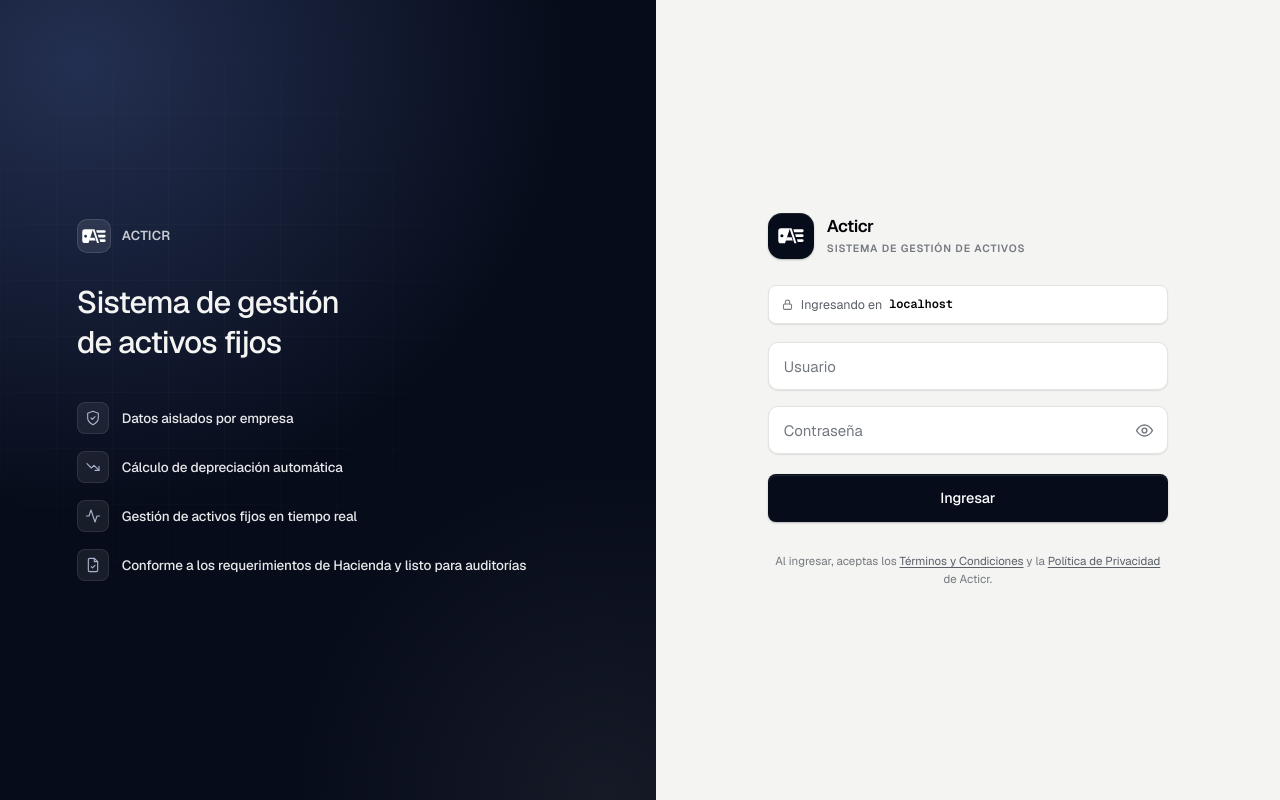
Test: LoginView › shows the server error message when login fails
This screenshot has width=1280, height=800.
Step 1. Type "mrivera" into the field labelled "Usuario" → [968, 366], box [768,342,1168,390]
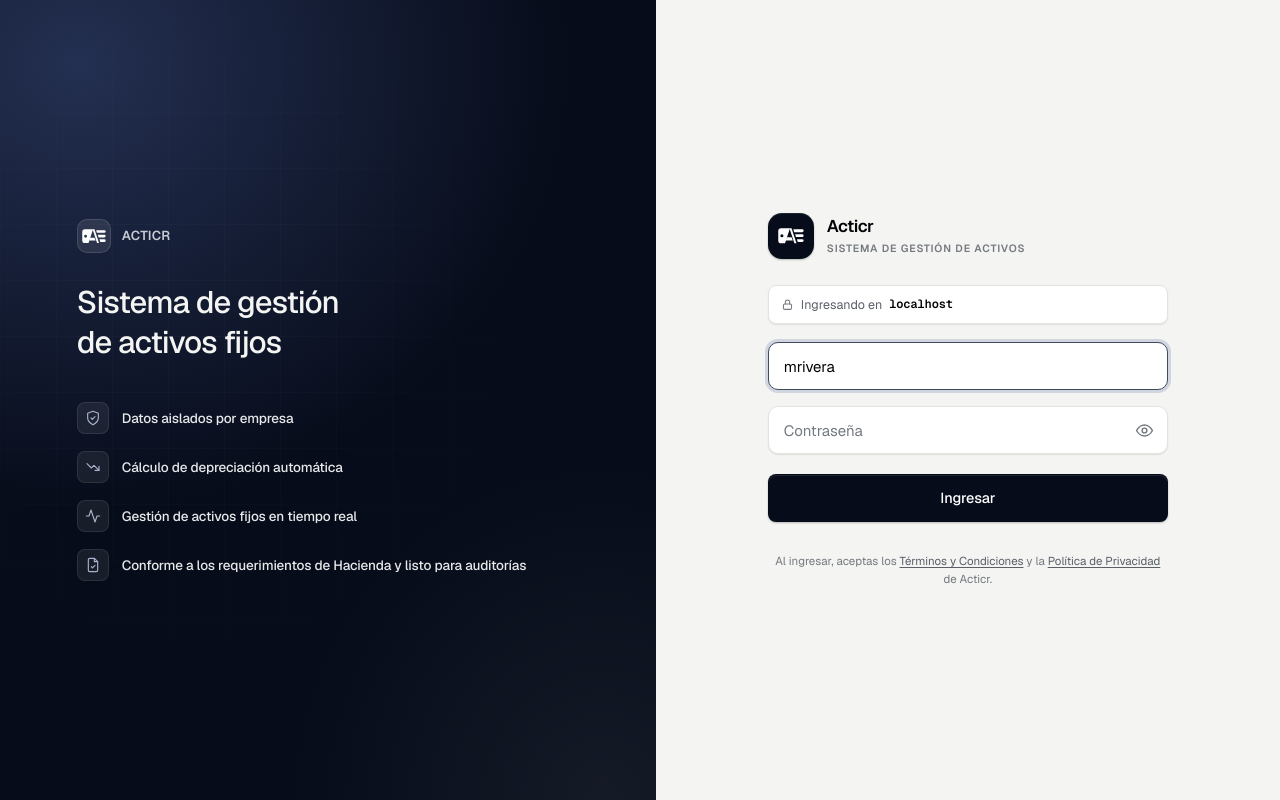
Step 2. Type "mala" into the password field labelled "Contraseña" → [968, 430], box [768,406,1168,454]
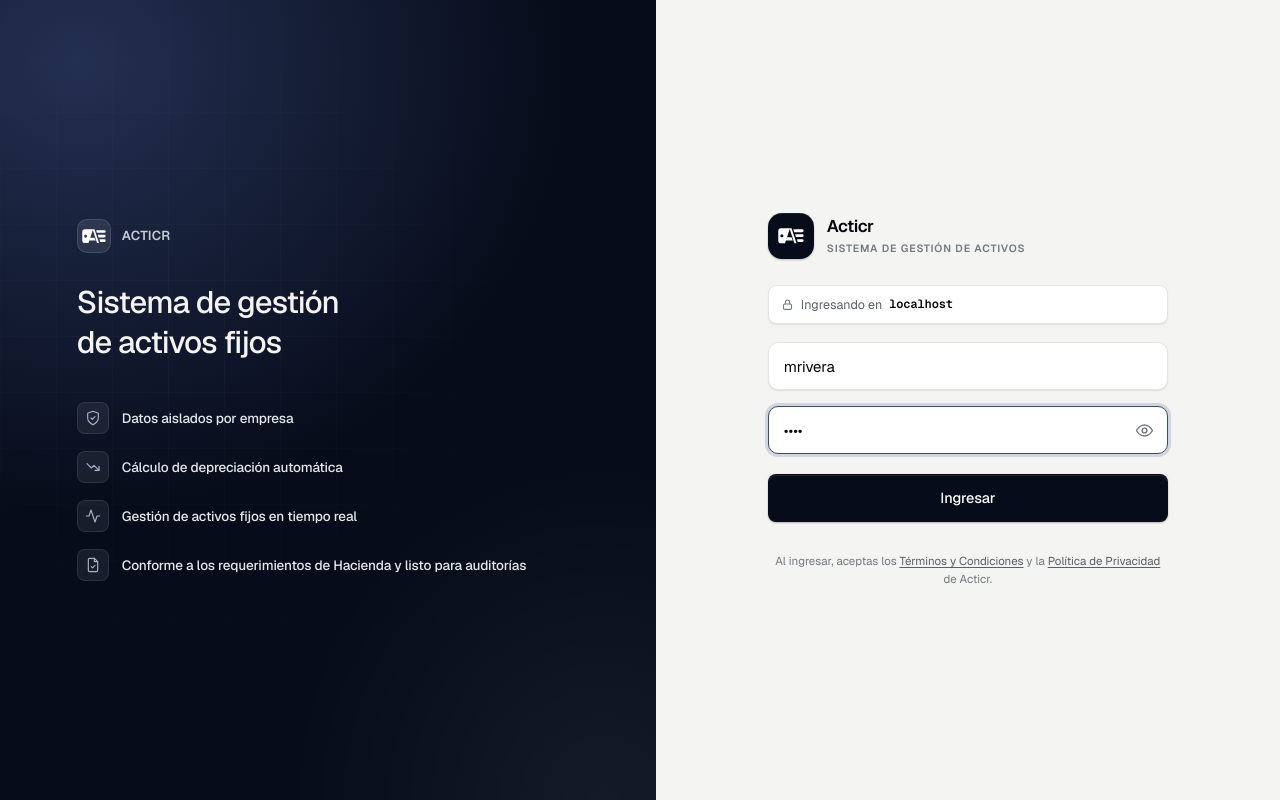
Step 3. Click the button "Ingresar" → [968, 498], box [768,474,1168,522]
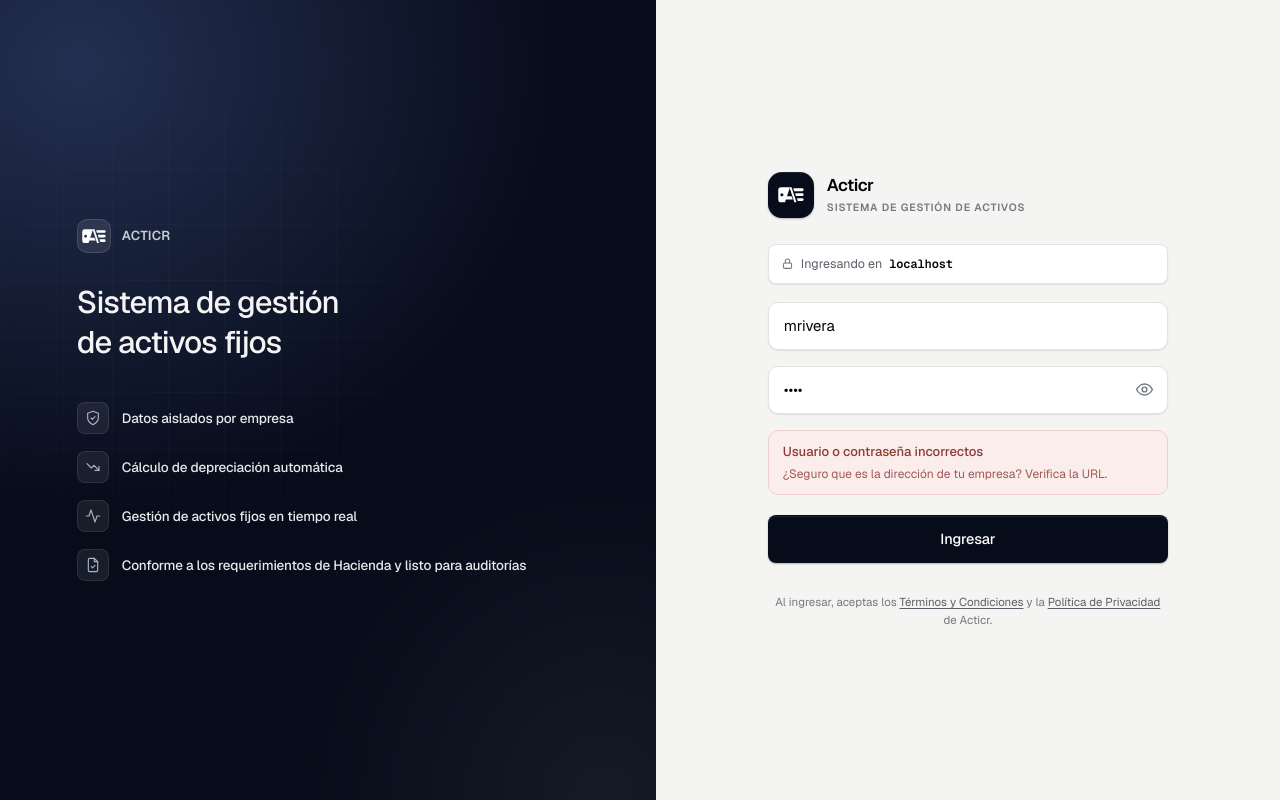
expect the text "Usuario o contraseña incorrectos" is shown: met, box [783,443,983,460]
